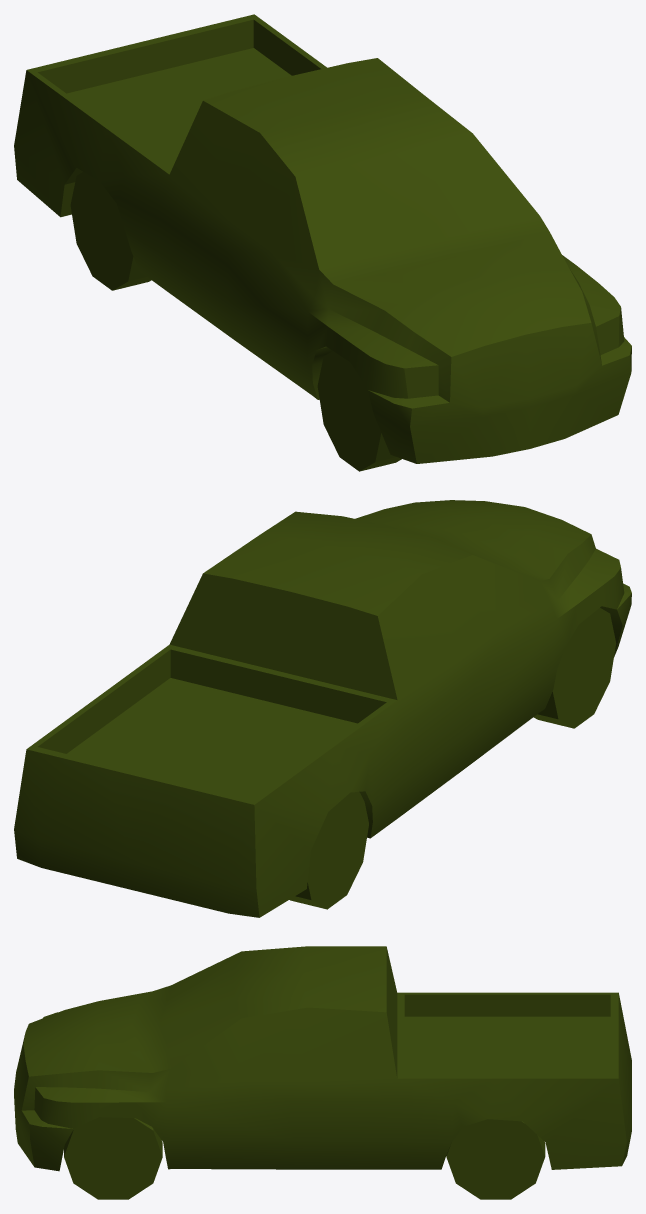
The model's file is Vehicle02B_M.fbx.
3 views of the same model, one above another, from view 1: azimuth 30°, elevation 25°; view 2: azimuth 150°, elevation 25°; view 3: azimuth 270°, elevation 25° (orthographic). The views are drawn at different scales.
Visible parts, largest first — view 1: Vehicle02B; view 2: Vehicle02B; view 3: Vehicle02B.
Part boxes in pixels (x1,y1,x2,y2): Vehicle02B: [14, 14, 631, 471]; Vehicle02B: [14, 500, 631, 917]; Vehicle02B: [14, 946, 631, 1199].
Size of the model in its own units: 1.73 by 1.53 by 4.72.
